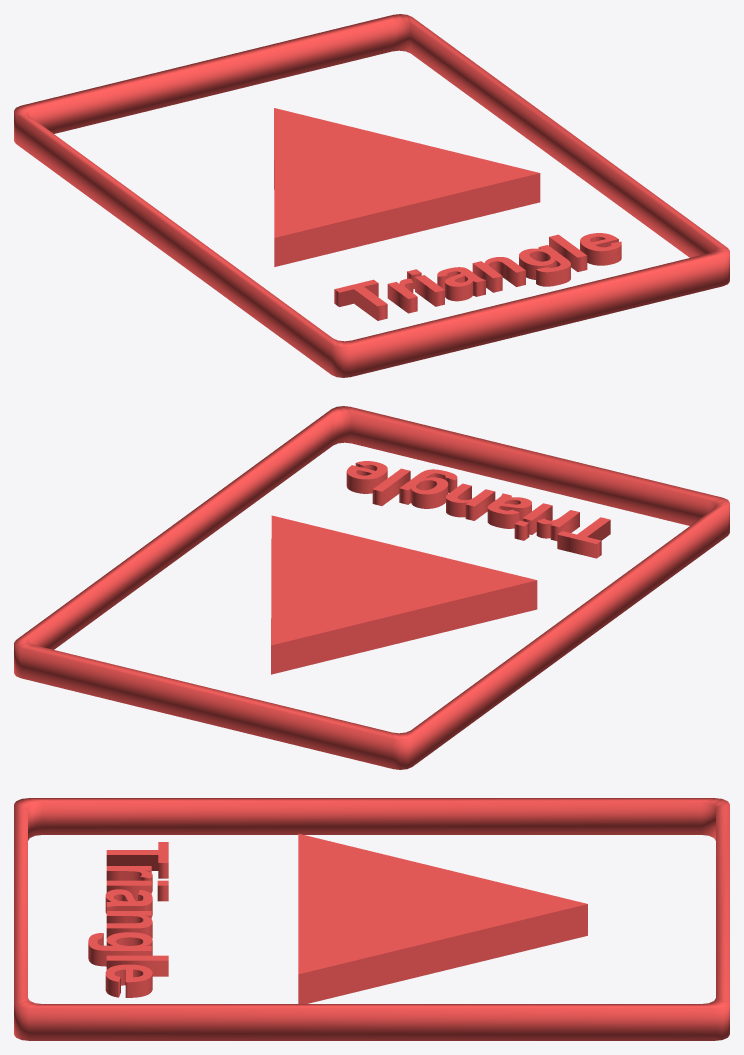
File: shapeTriangle.glb
3 views of the same model, one above another, from view 1: azimuth 30°, elevation 25°; view 2: azimuth 150°, elevation 25°; view 3: azimuth 270°, elevation 25° (orthographic). The views are drawn at different scales.
Visible parts, largest first — view 1: Shape; view 2: Shape; view 3: Shape.
Part boxes in pixels (x1,y1,x2,y2): Shape: (14,14,729,377); Shape: (14,406,729,769); Shape: (14,798,729,1040).
Bounding box in the file's own units: 0.9357 × 0.068 × 1.35.
